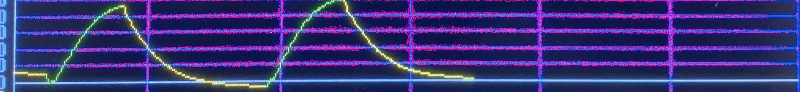normal_volume: (22, 0, 481, 91)
